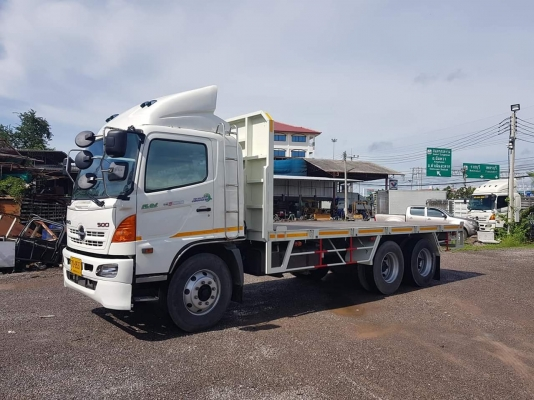truck: (59, 83, 319, 331)
